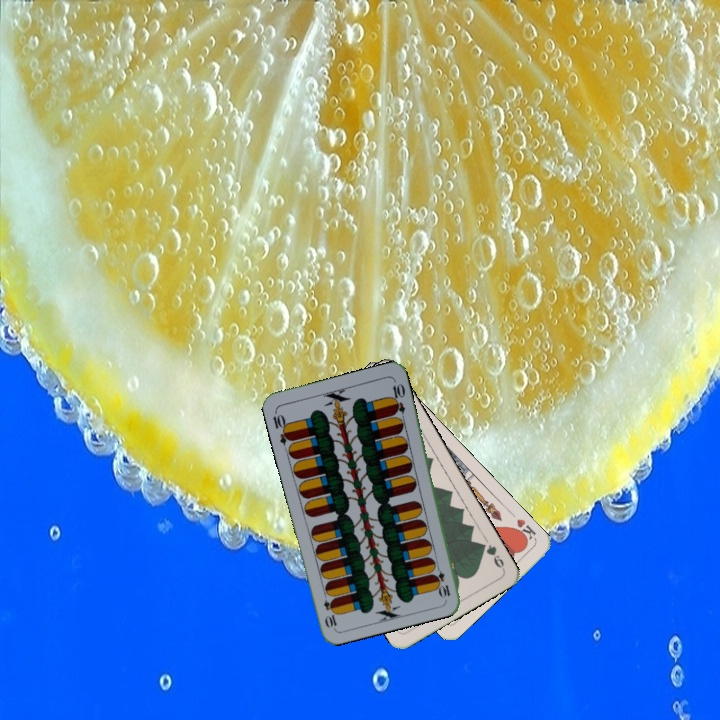E10: (269, 407, 294, 447), (431, 560, 453, 600)
G9: (476, 539, 507, 572)
HK: (510, 515, 538, 545)
